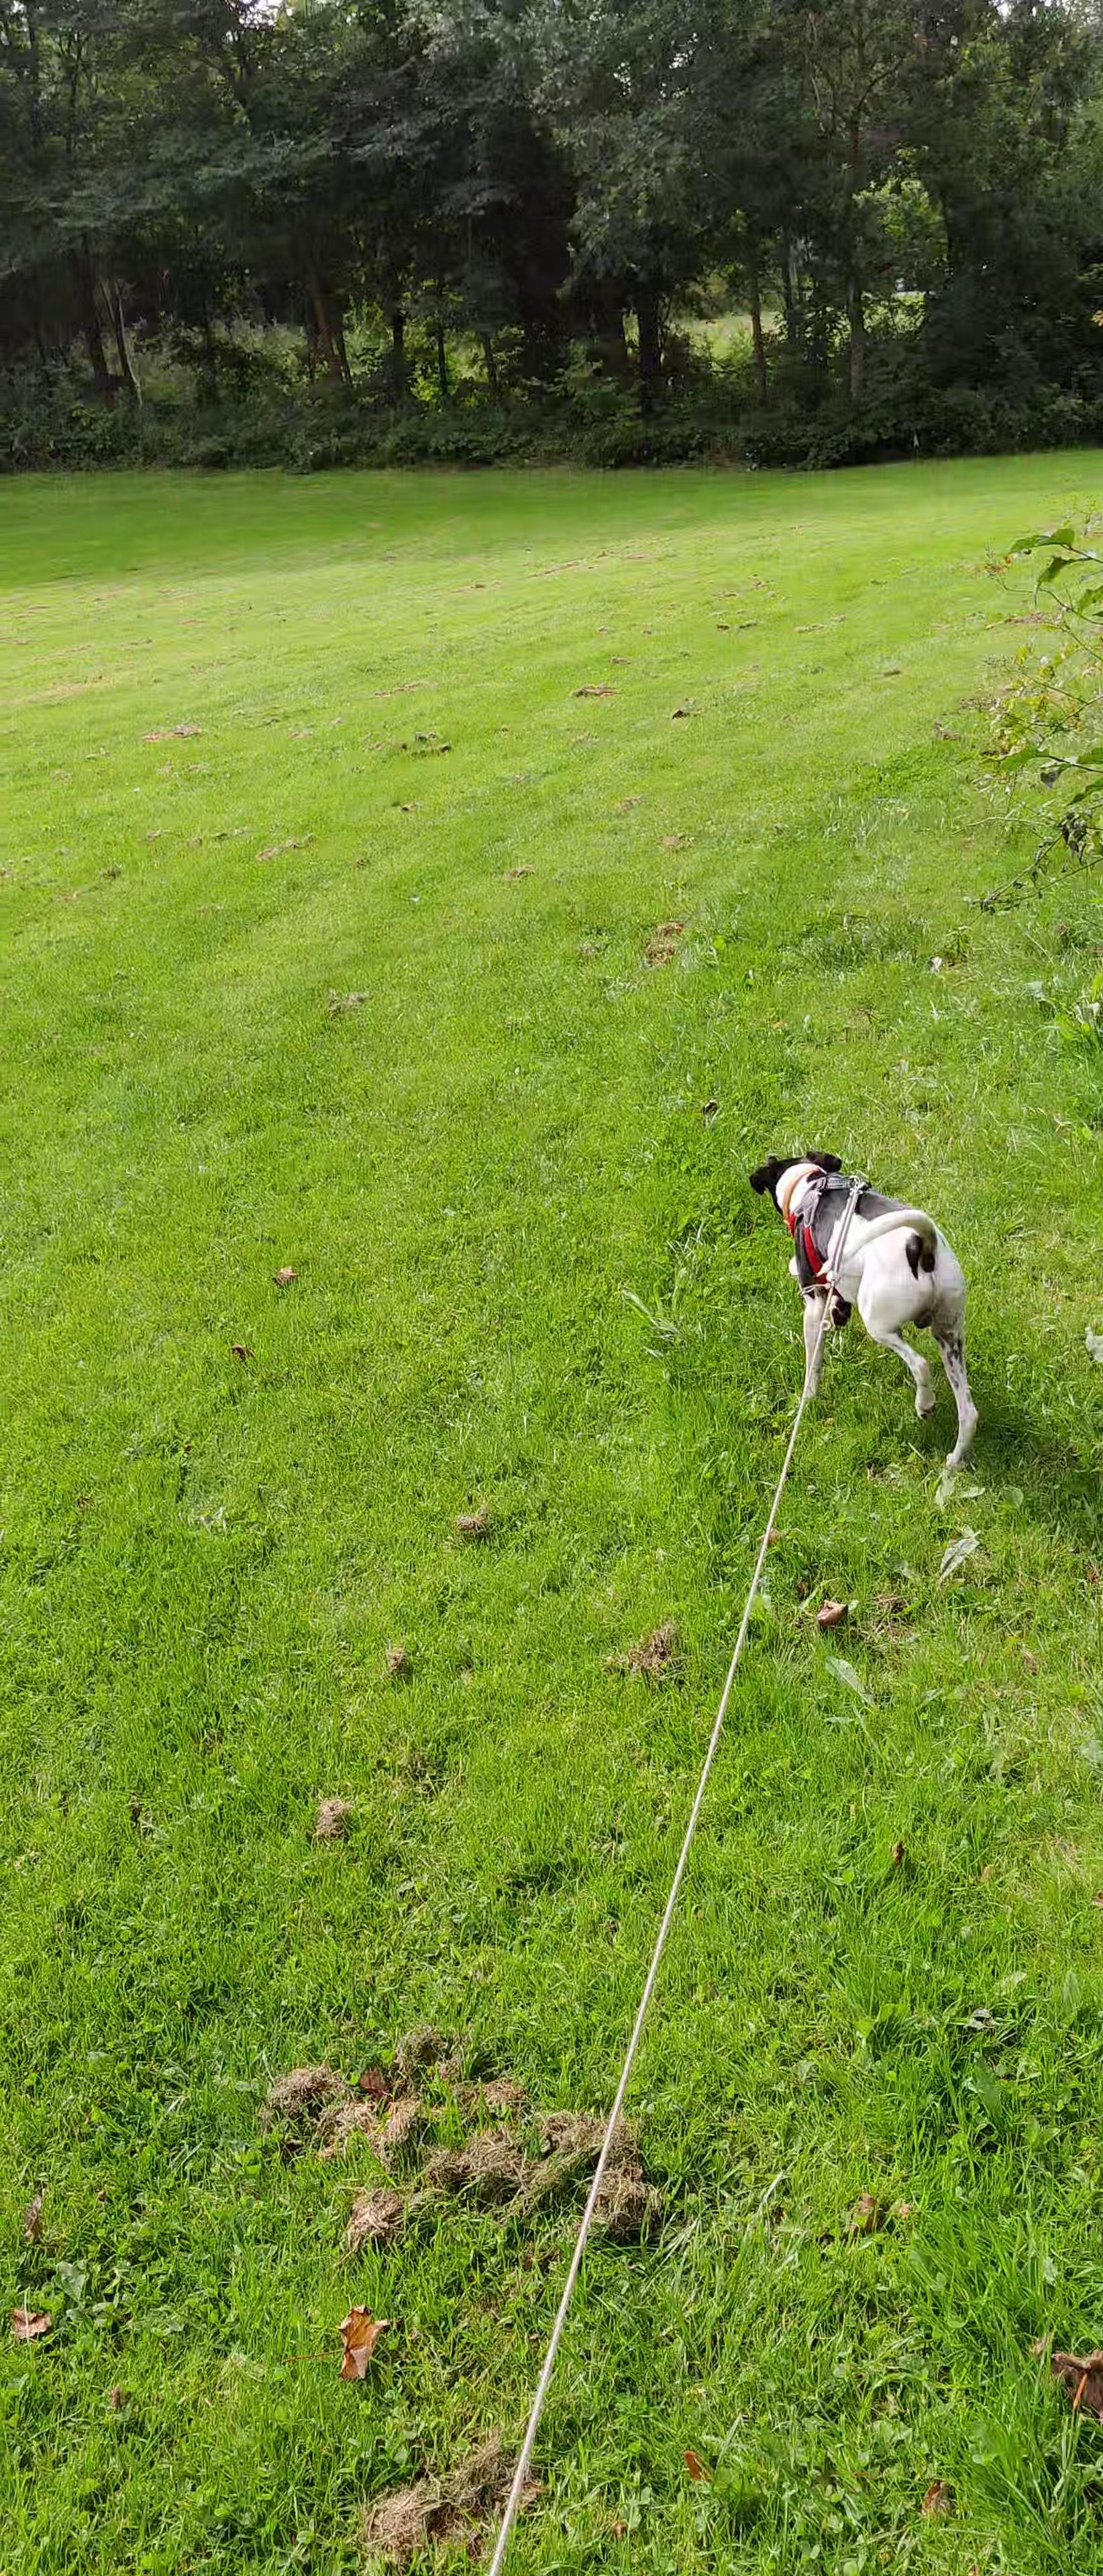Dog: (746, 1143, 983, 1475)
